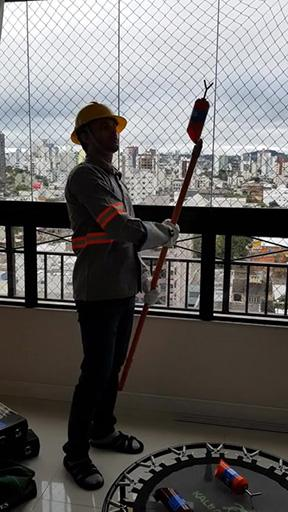Detector_Tensao_Contato: (212, 460, 262, 506), (185, 80, 215, 143)
Vara_Manobra: (117, 141, 204, 391)
